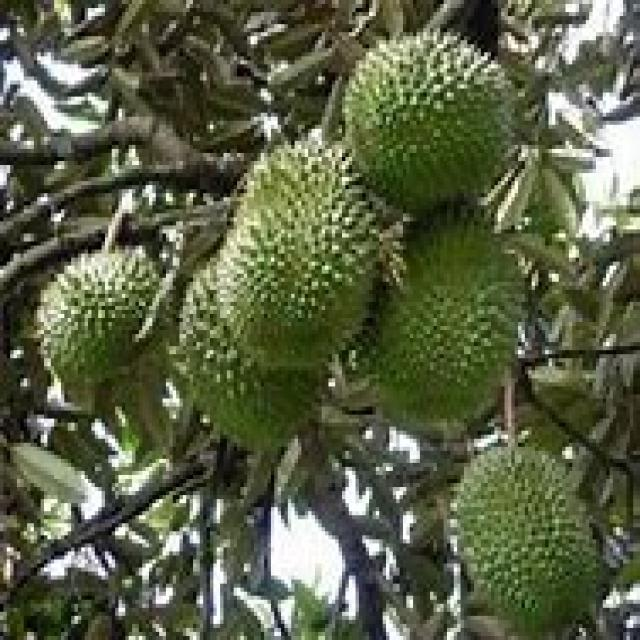immature: (215, 140, 383, 372), (338, 27, 518, 217), (374, 199, 528, 411), (176, 254, 336, 453), (443, 438, 599, 640), (33, 244, 171, 396)
